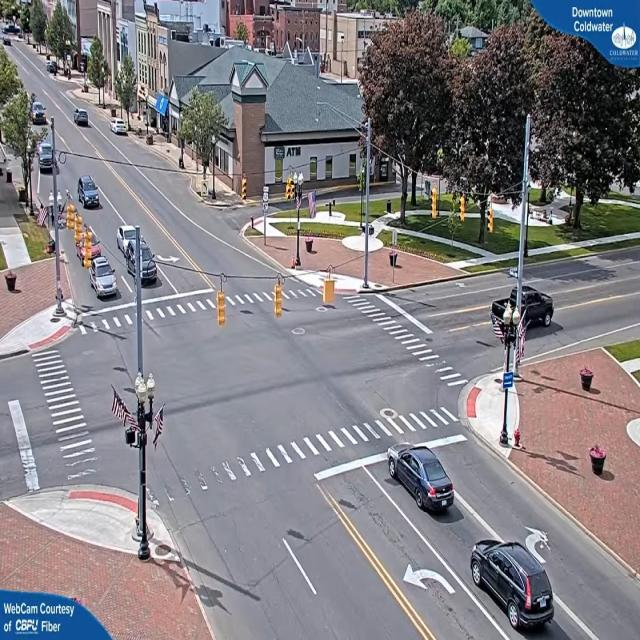car: (472, 538, 556, 634), (388, 443, 458, 515), (489, 284, 556, 332), (91, 258, 119, 300), (79, 178, 102, 210), (112, 120, 128, 136)
